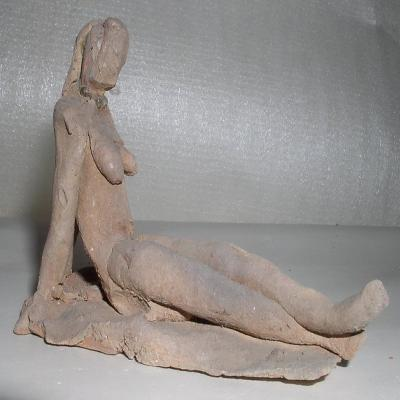sculpture: (14, 18, 388, 386)
